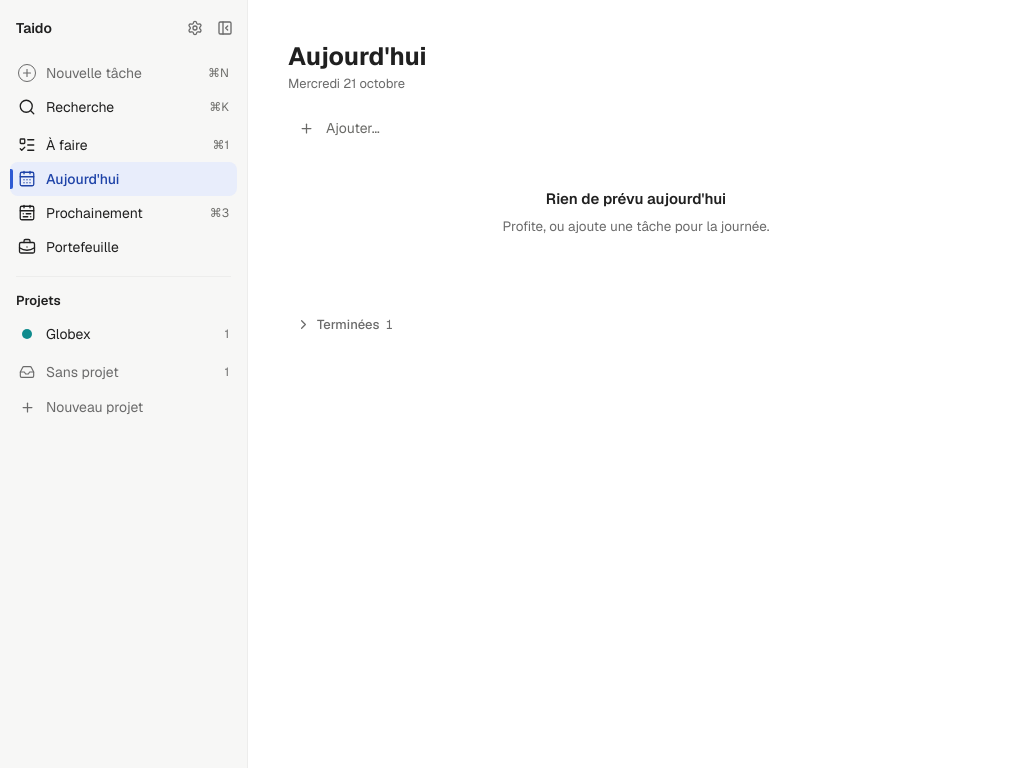
Test: ⌘K « Aller à une tâche » › lists the hits with their ring and place, completed ones dimmed
Click the button "Recherche ⌘K": point(124, 107) 10,90 -> 237,124
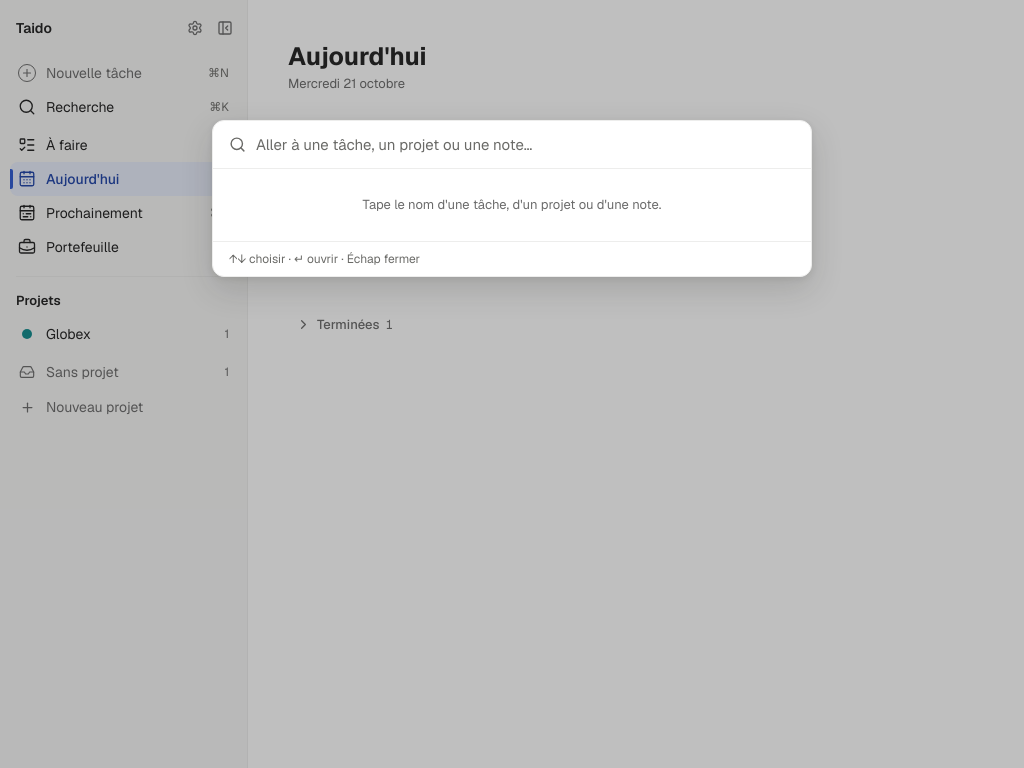
In the dropdown named "Rechercher une tâche ou une note": point(526, 144) 256,121 -> 795,168, type "export"
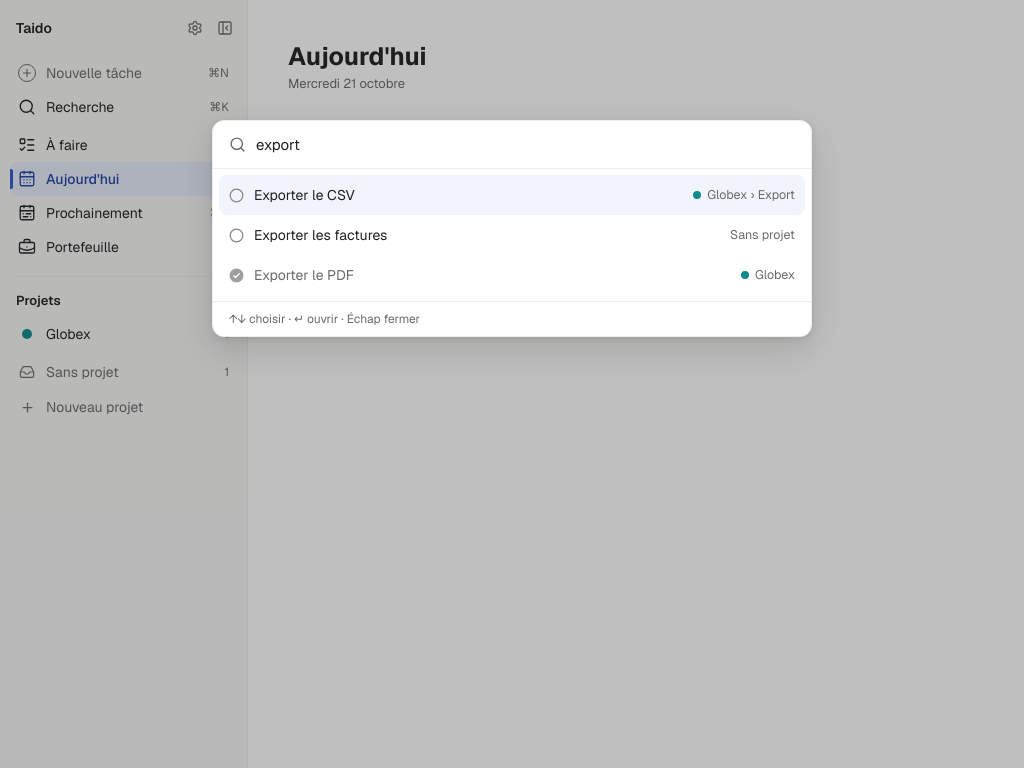
Check: the option "Exporter le CSV Globex › Export" is shown, box 219,175 -> 805,215
Check: the option "Exporter les factures Sans projet" is shown, box 229,226 -> 795,244
